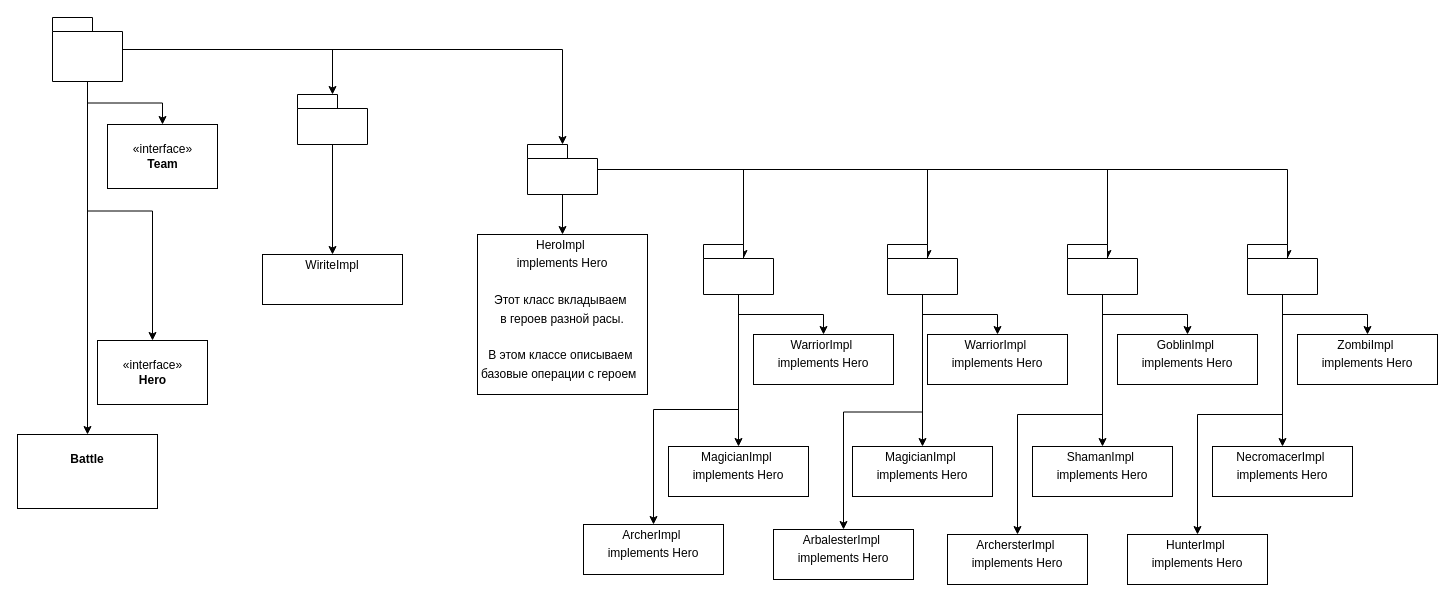
This 1455x602 diagram has some shape labels left out. Here are the shapes that lost their labels. From the top down, the centre of each, then its label:
pixel 87 49: src
pixel 332 119: IO
pixel 562 169: Heros
pixel 738 269: elves
pixel 922 269: human
pixel 1102 269: orcs
pixel 1282 269: undead
